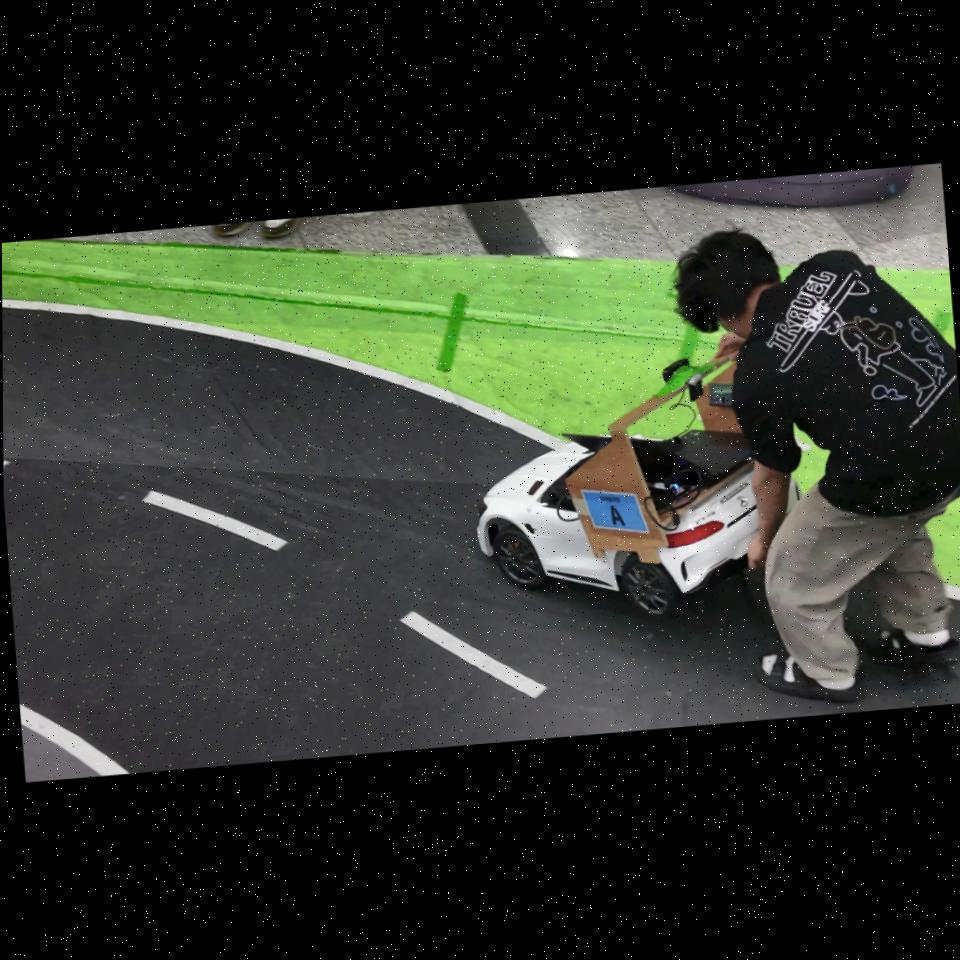broken_line: (399, 611, 548, 699), (142, 490, 288, 551), (3, 461, 11, 470)
